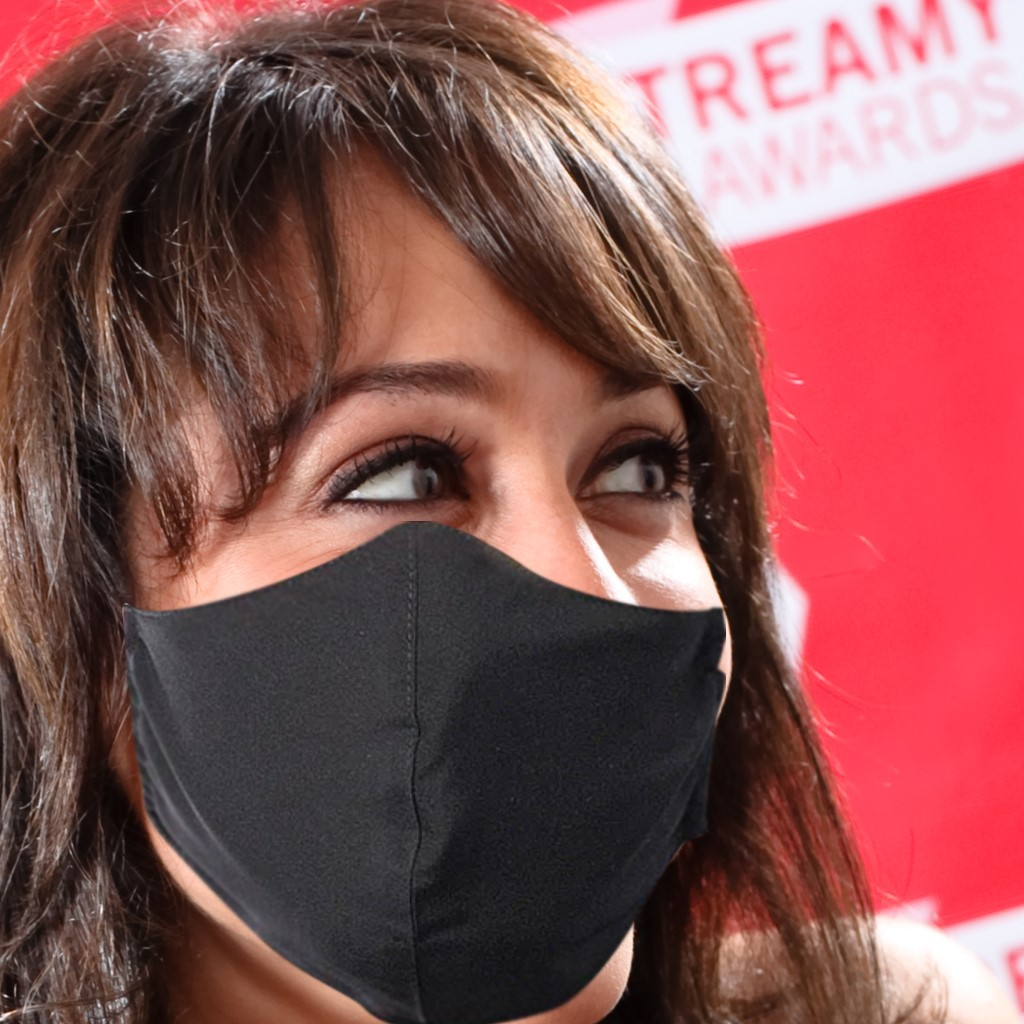con_mascara: (122, 93, 742, 990)
